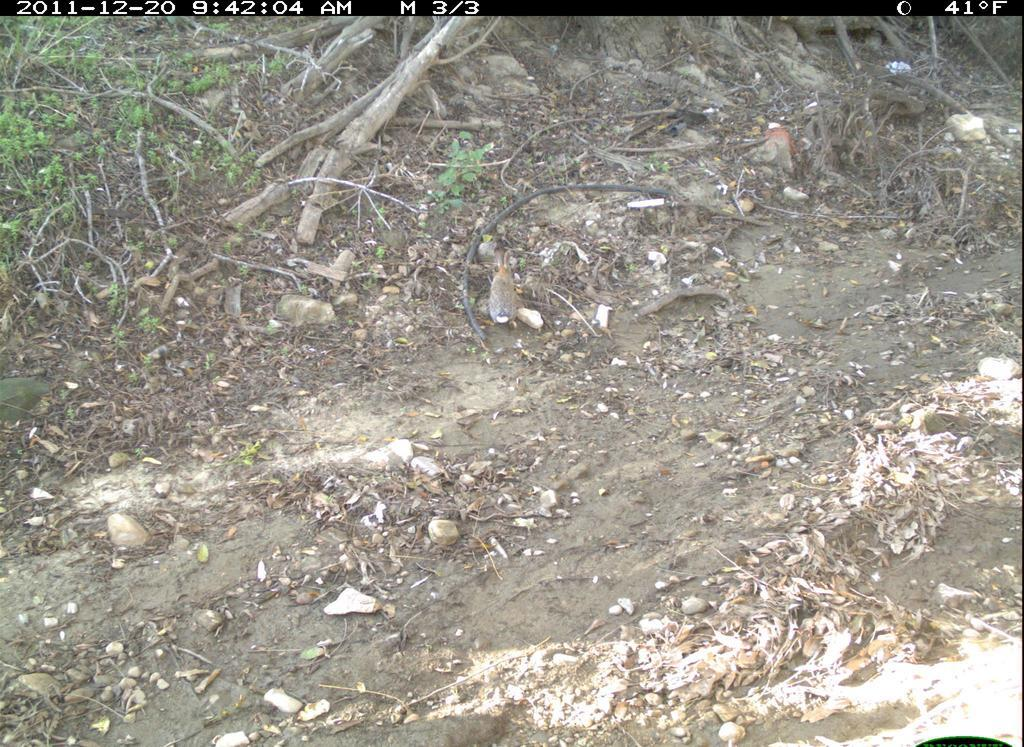rabbit: (482, 241, 530, 342)
